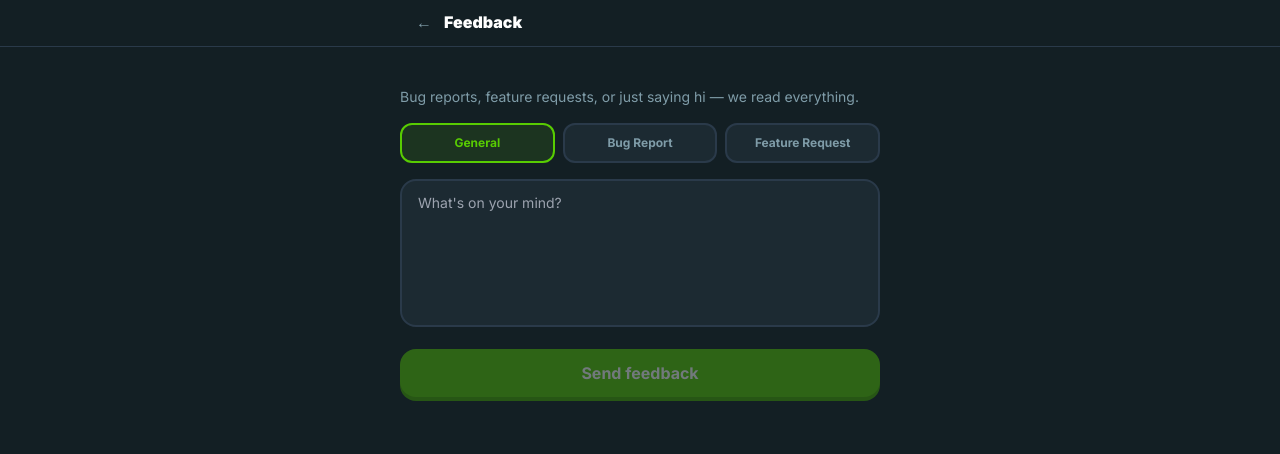
Scenario: Feedback Page › shows error when submit fails
Type "This should fail to submit" into the text box with placeholder "What's on your mind?".
click(640, 253); type("This should fail to submit")  # box [400,179,880,327]
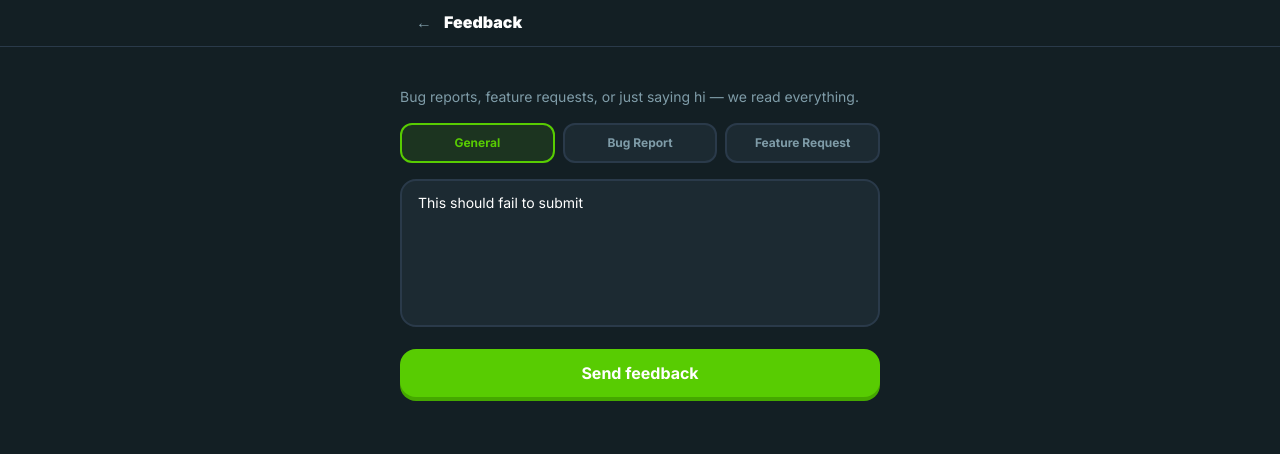
Submit the form with placeholder "What's on your mind?", box [400,87,880,397]
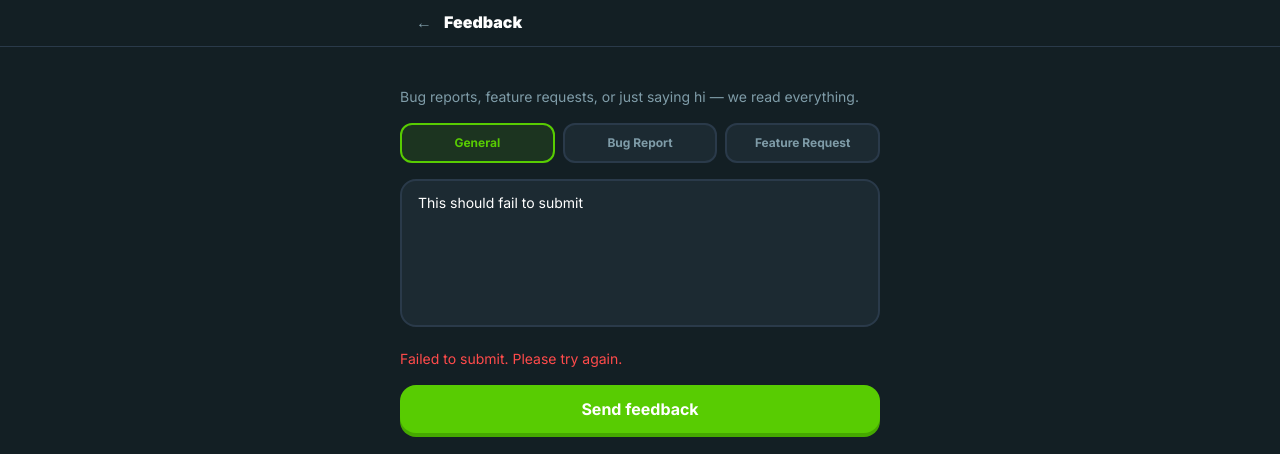
Now the text "Failed to submit. Please try again." is shown, box [400,350,622,367]
